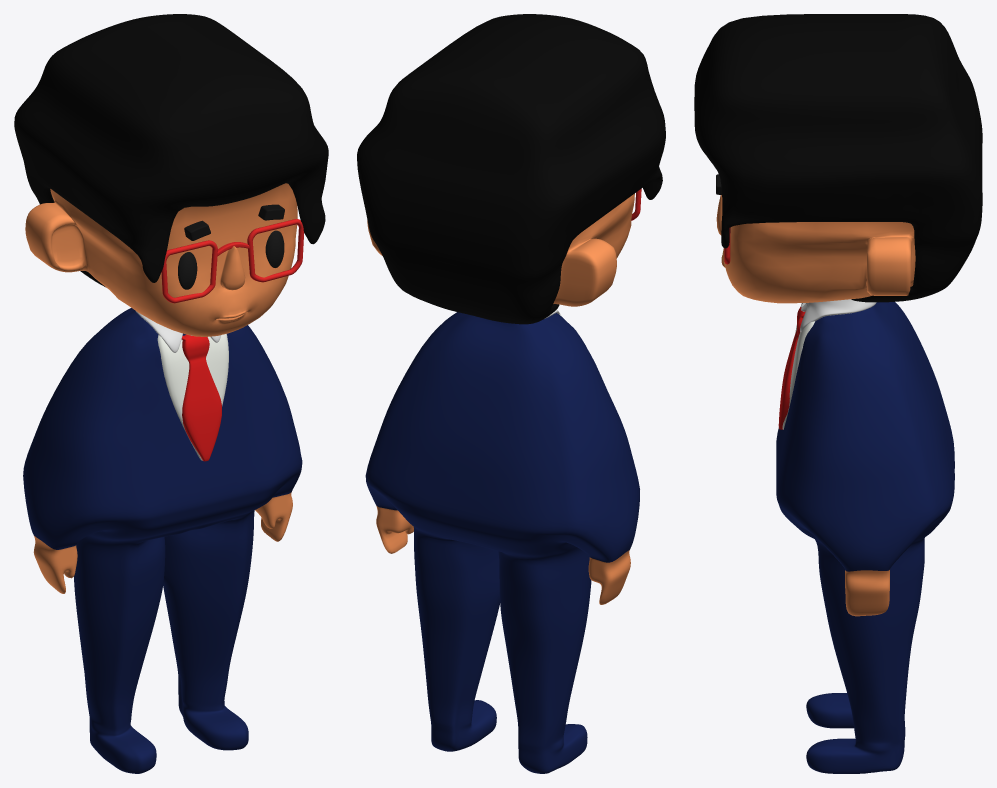
Rendered from Teacher.FBX.
The picture shows the model from 3 angles, left to right: view 1: azimuth 30°, elevation 25°; view 2: azimuth 150°, elevation 25°; view 3: azimuth 270°, elevation 25°; orthographic projection. The views are drawn at different scales.
Parts seen in each view (by area): view 1: body, Hair, MyFaceFinal, necktie, lining, Eyeglass_frame_2, eyebrow, collar; view 2: body, Hair, MyFaceFinal; view 3: Hair, body, MyFaceFinal, collar, necktie, lining.
Boxes of the visible parts, x1,y1,x2,y2 form: body: [23, 308, 302, 773]; Hair: [14, 14, 328, 287]; MyFaceFinal: [25, 183, 297, 336]; necktie: [181, 334, 221, 461]; lining: [157, 334, 228, 460]; Eyeglass_frame_2: [161, 219, 304, 303]; eyebrow: [184, 204, 284, 240]; collar: [136, 311, 220, 352]; body: [365, 312, 639, 773]; Hair: [357, 14, 665, 324]; MyFaceFinal: [367, 193, 634, 306]; Hair: [694, 14, 982, 302]; body: [776, 302, 954, 773]; MyFaceFinal: [716, 195, 915, 303]; collar: [800, 299, 876, 331]; necktie: [778, 307, 805, 429]; lining: [782, 321, 814, 429].
Size of the model in its own units: 146 by 389 by 142.
